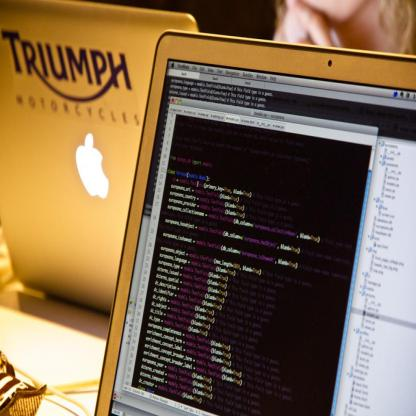board: (83, 27, 394, 416), (2, 0, 198, 315)
